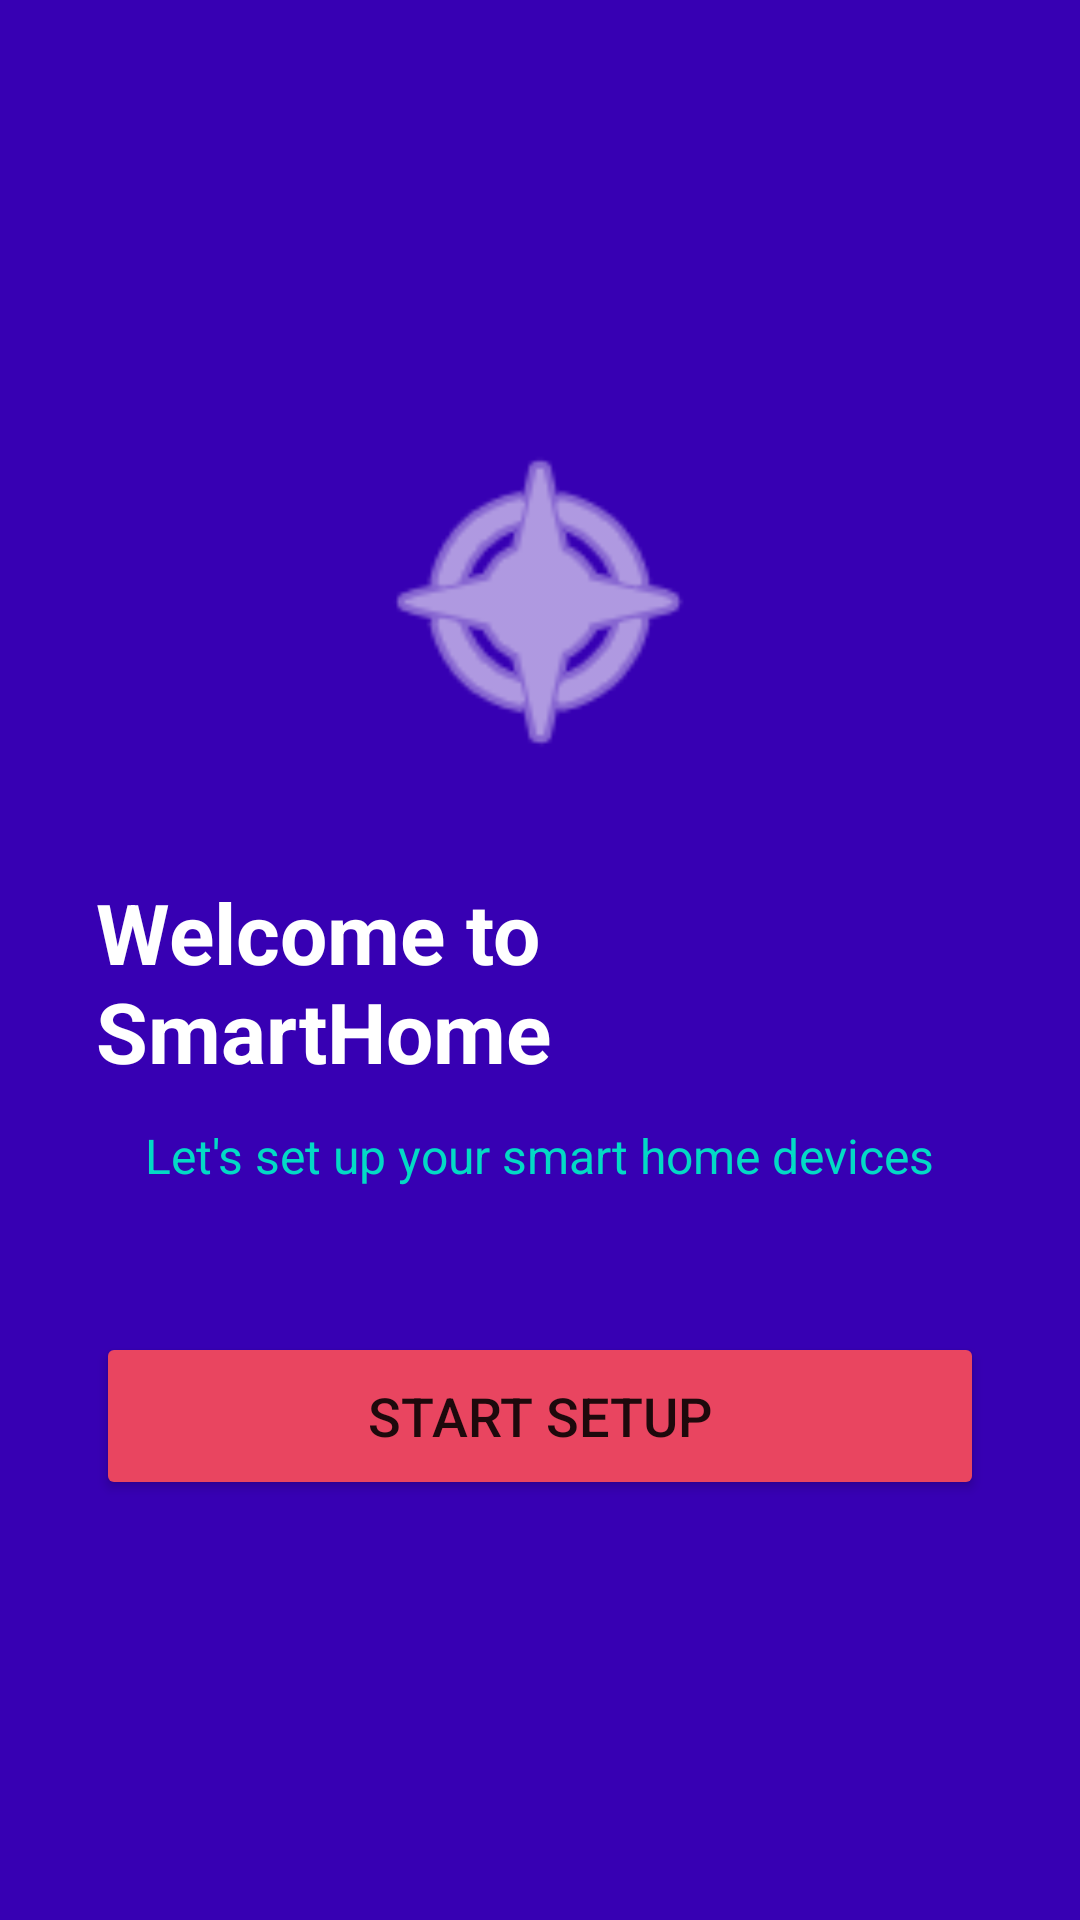

Named icons in this screenshot (1080x1920) and their centers, (x,y):
compass: (538,602)
